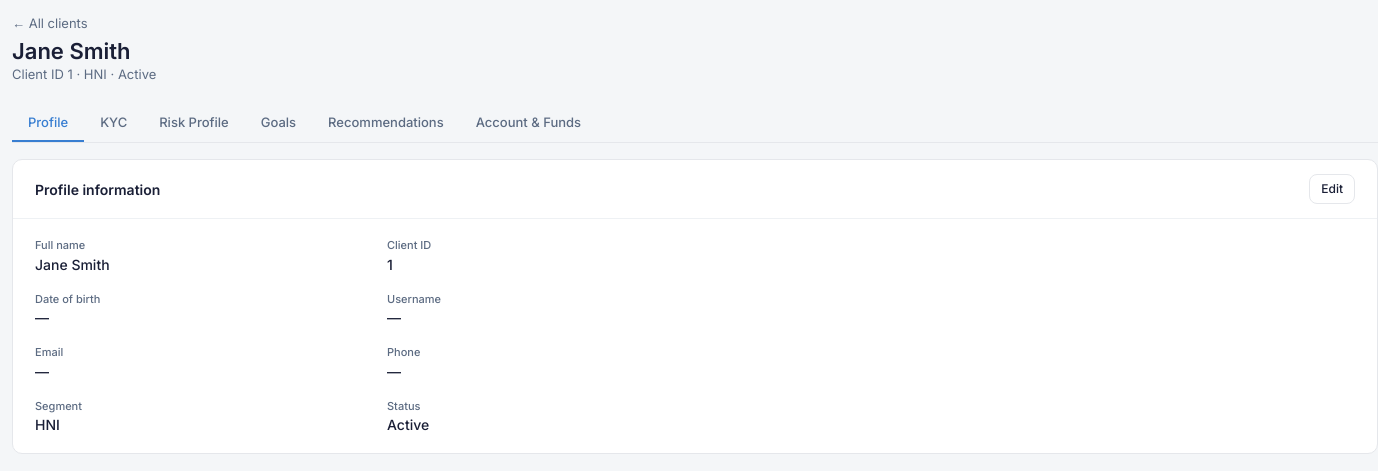
Test: ClientDetail page › Goals tab renders goal card when goals are present
What coordinates should you click on to do the following:
click the button "Goals"
I would click on:
 (278, 123)
Its box is [245,104,312,142].
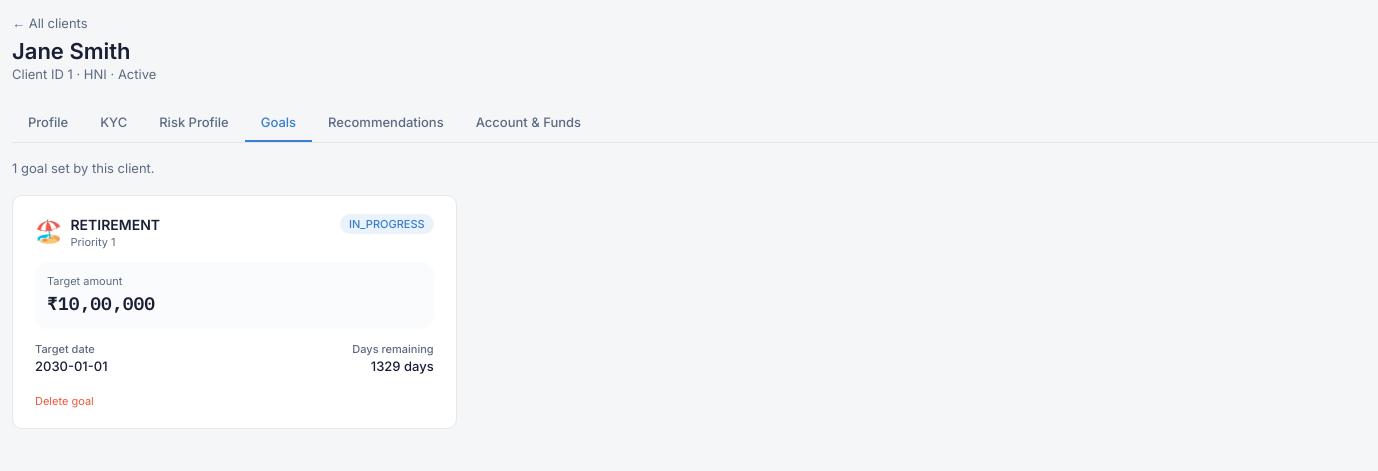
Expected: the text "RETIREMENT" is shown, [70,214,160,234]
